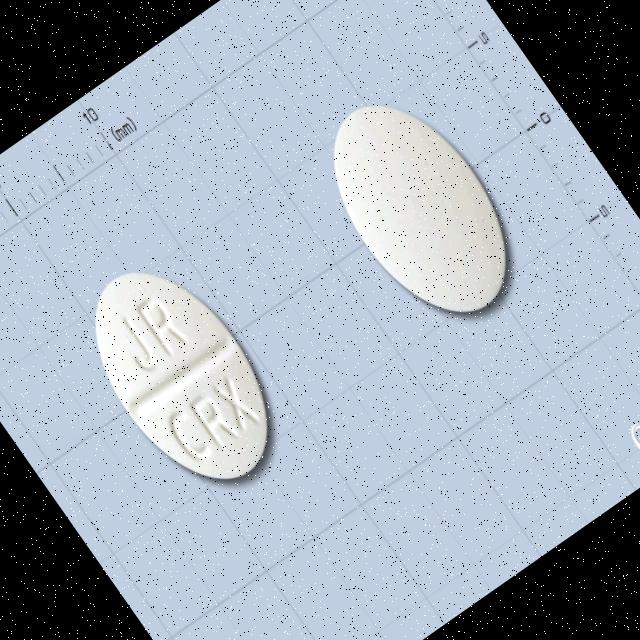Ciroxin - 250mg: (55, 236, 311, 520), (294, 68, 550, 350)
